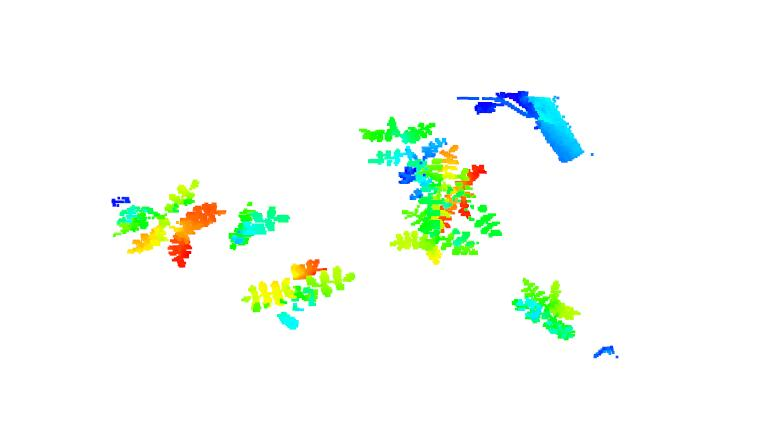chickpea: (349, 118, 443, 248), (101, 180, 223, 268), (428, 146, 514, 258), (239, 256, 356, 330), (507, 276, 584, 343), (226, 196, 301, 252)
